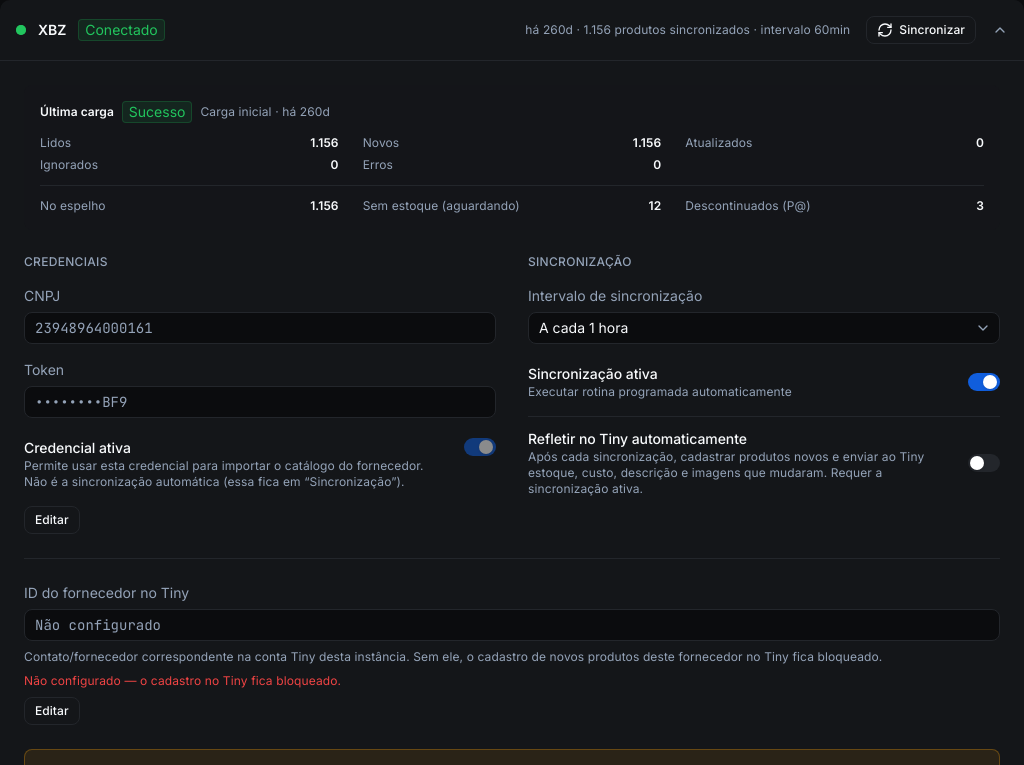
Scenario: FornecedorAcordeao › Editar → digitar → Salvar envia o id como número
Click the button with aria-label "Editar ID do fornecedor no Tiny".
click(52, 711)  # box [24,697,80,725]
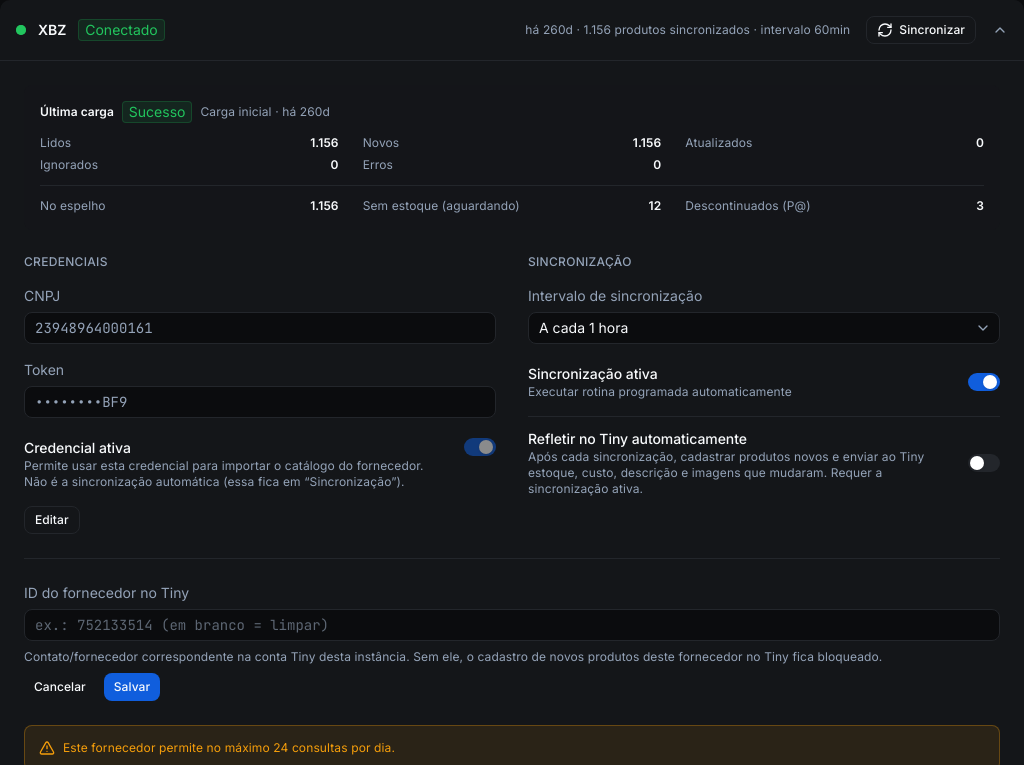
Type "752131325" into the field labelled "ID do fornecedor no Tiny".
click(512, 625); type("752131325")  # box [24,609,1000,641]
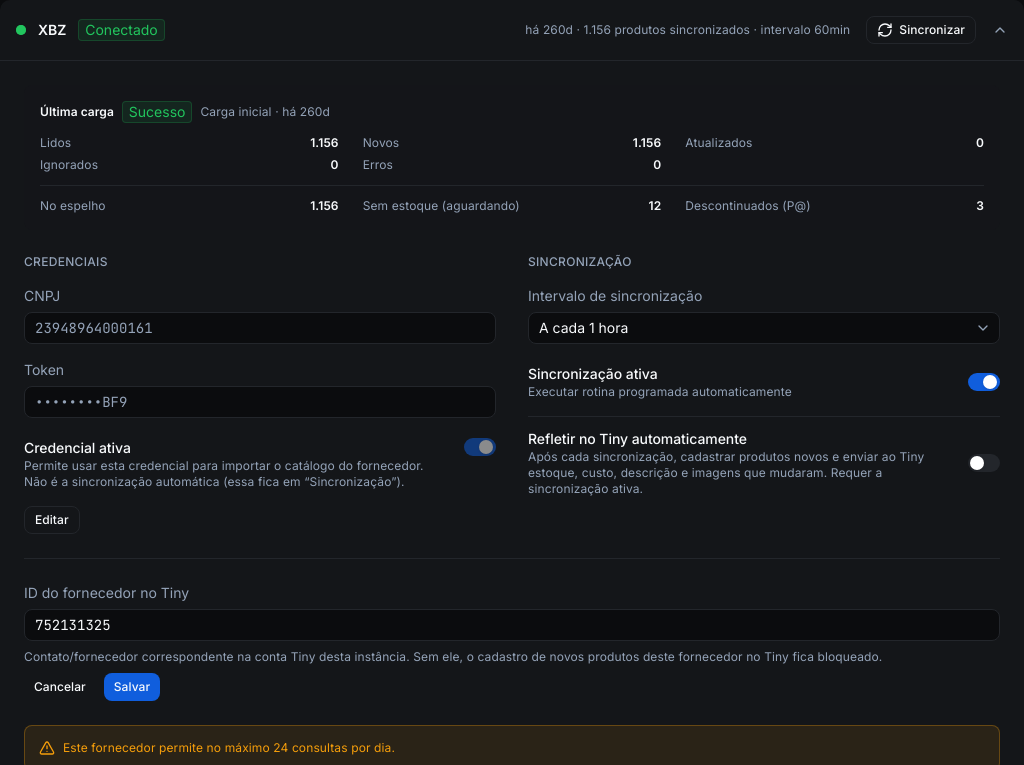
Click the button with aria-label "Salvar ID do fornecedor no Tiny".
click(132, 687)  # box [104,673,160,701]
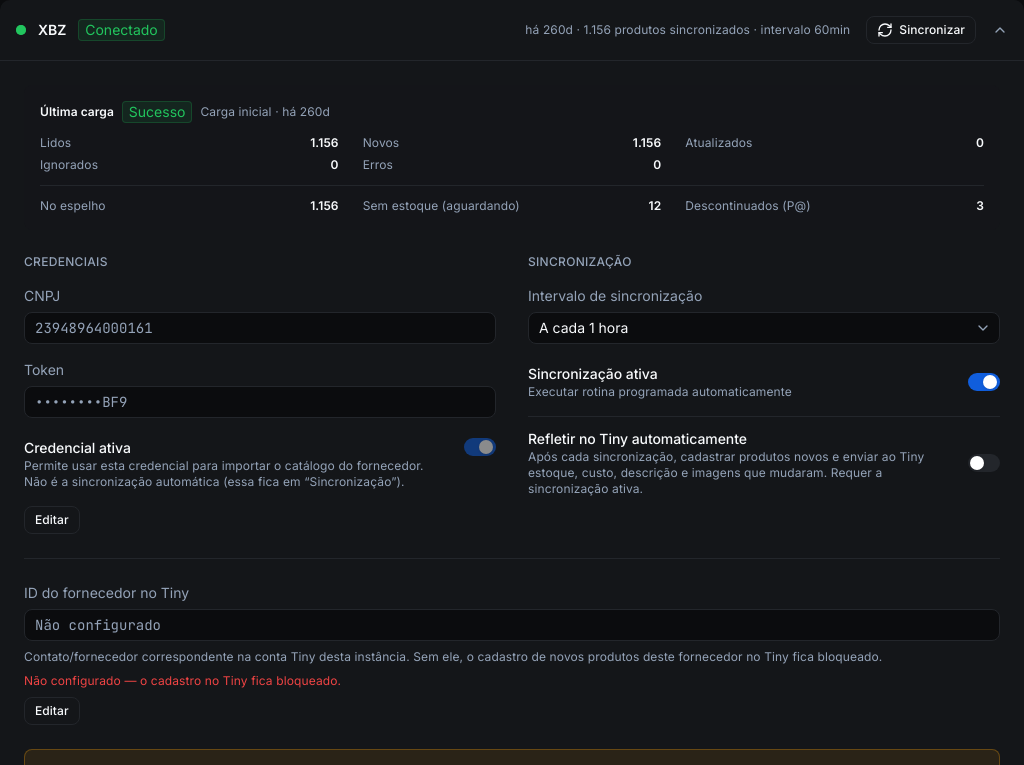
Check: the button with aria-label "Editar ID do fornecedor no Tiny" is shown, box [24,697,80,725]
